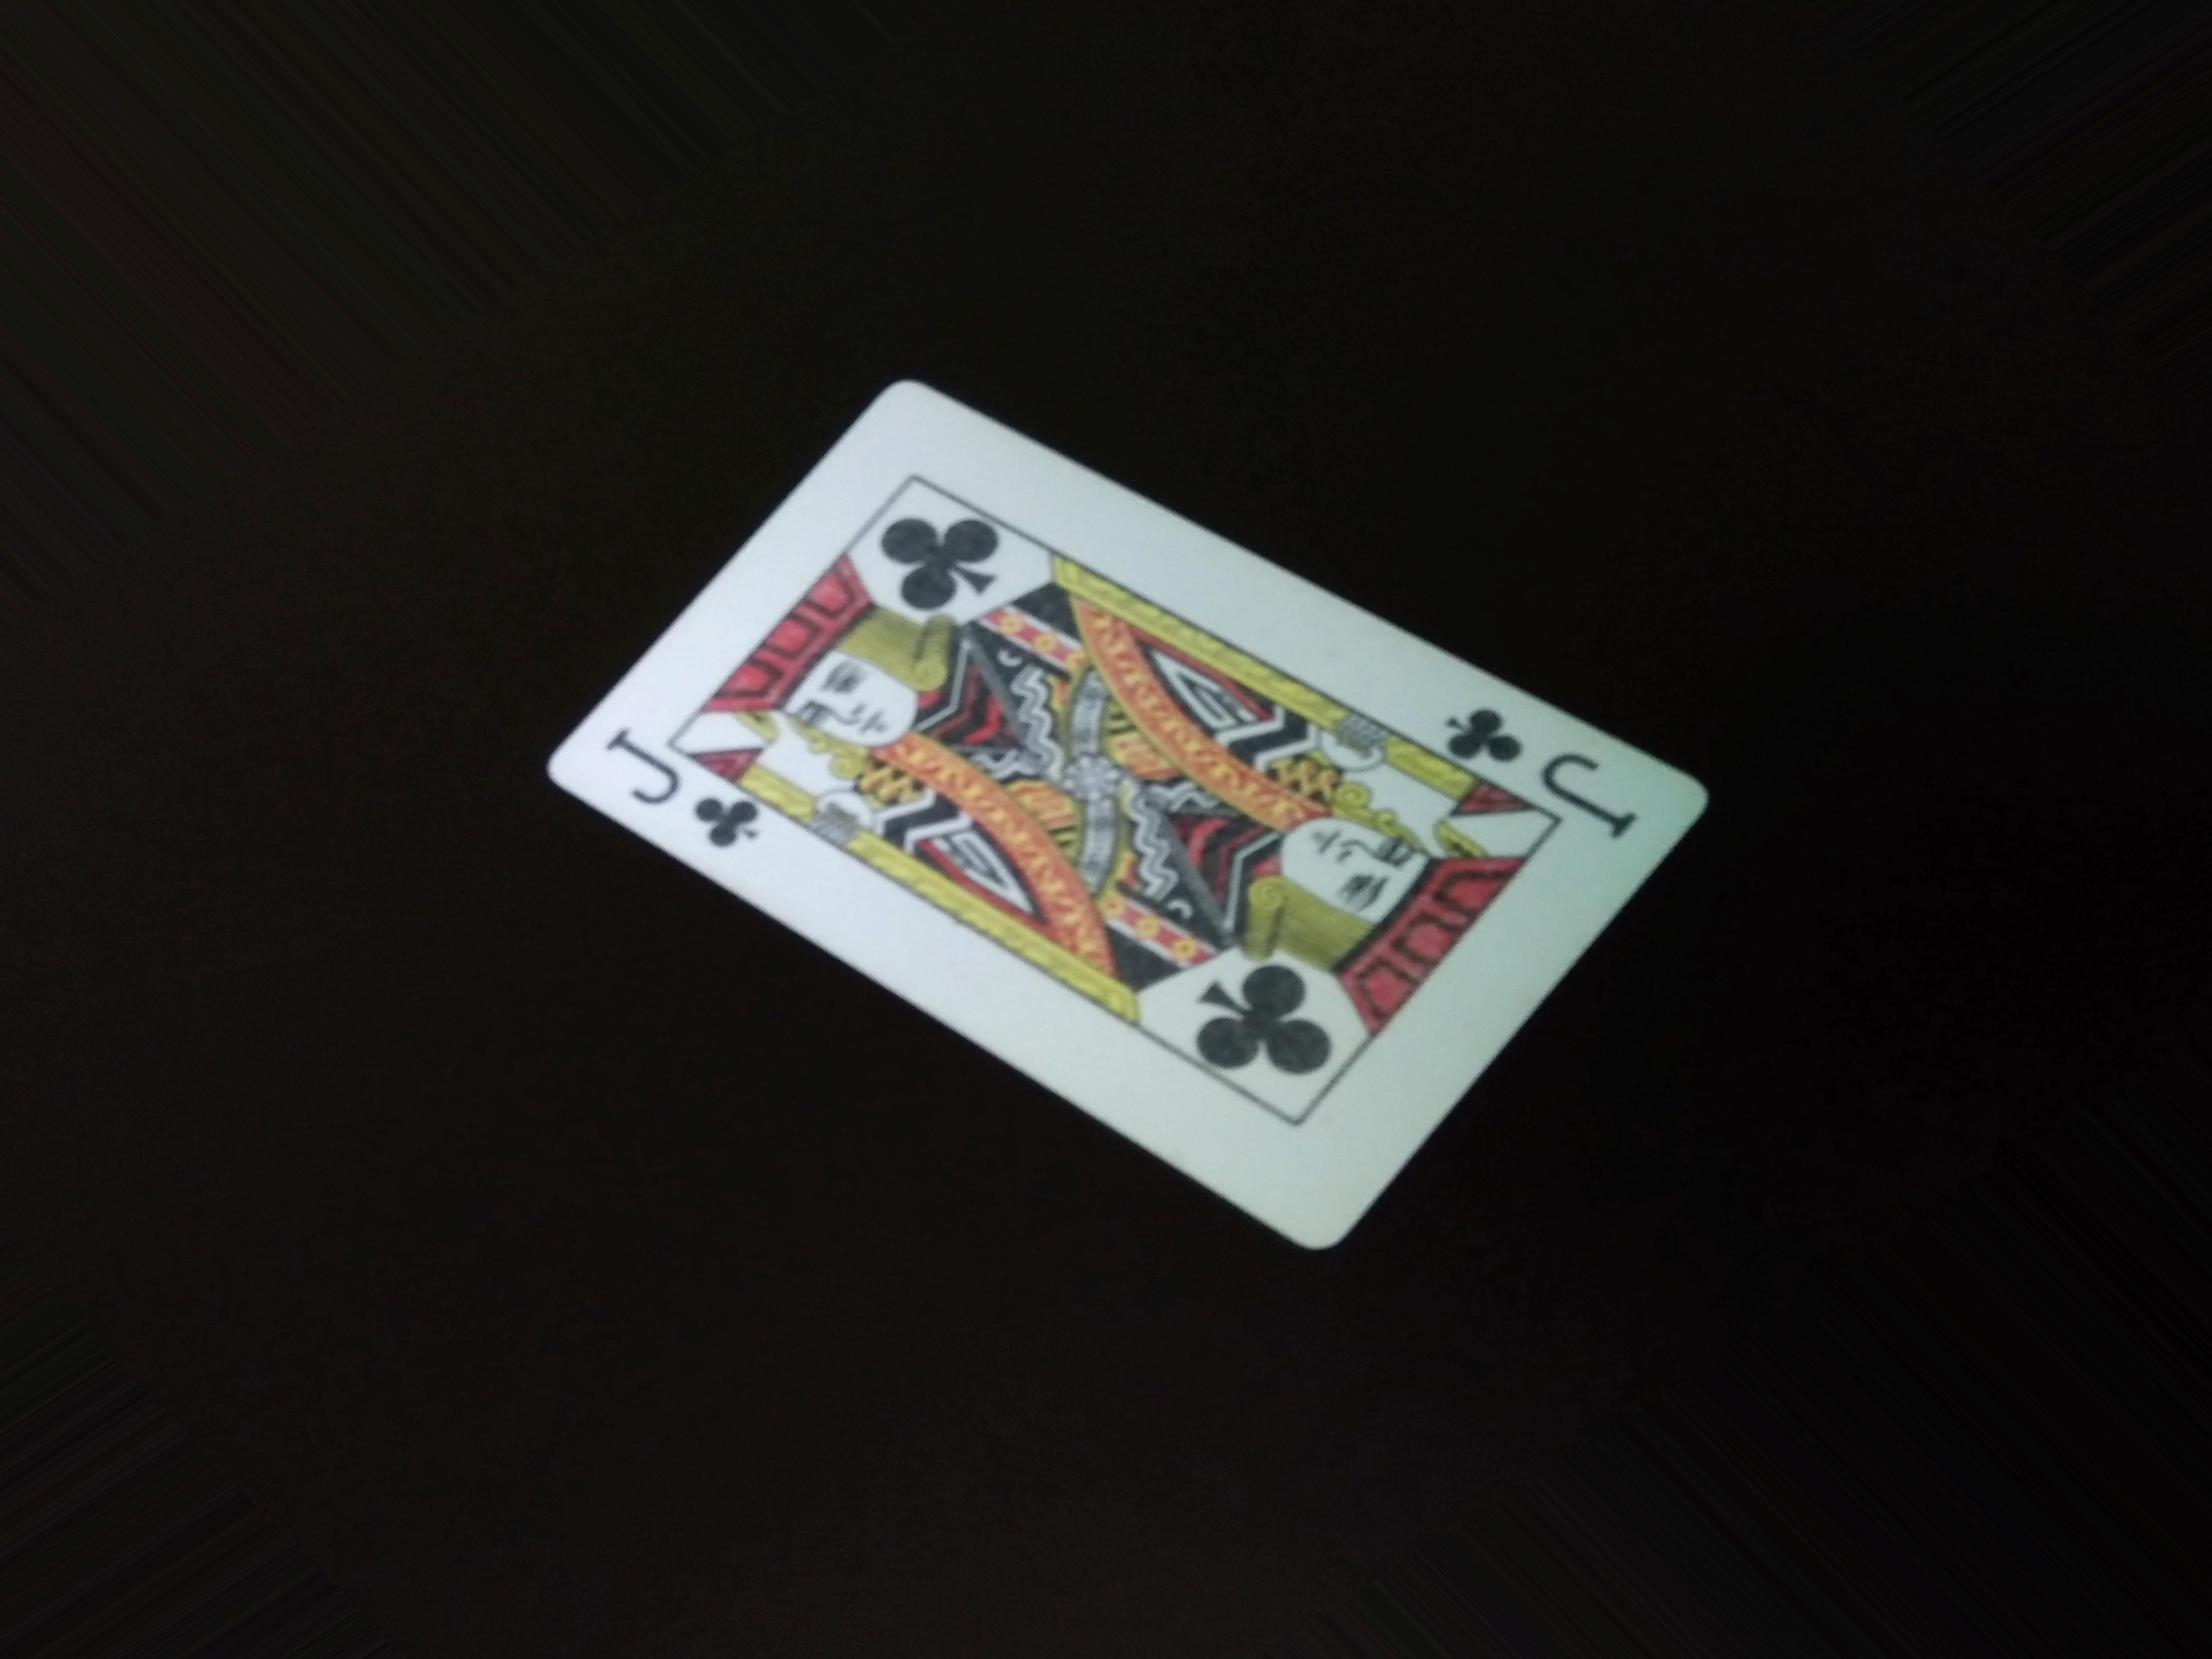JC: (590, 720, 752, 861)
